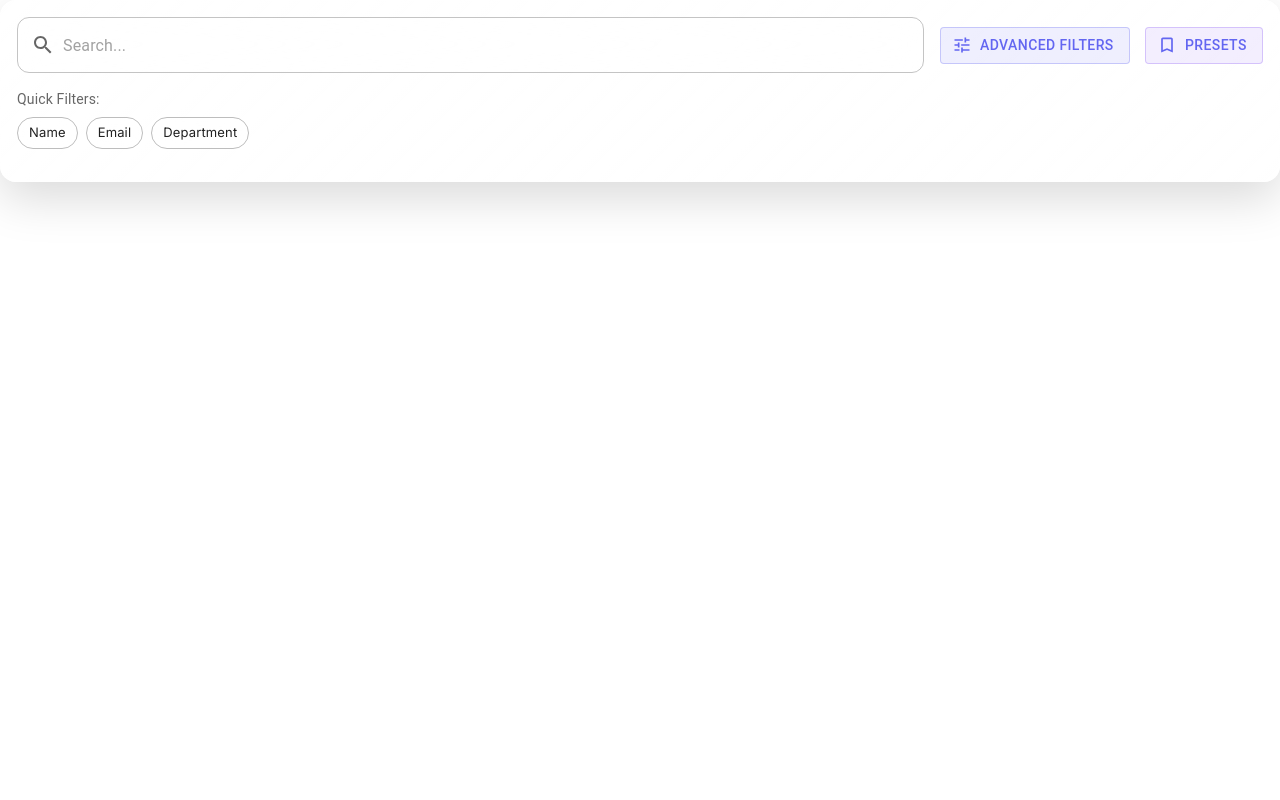
Scenario: SmartFilter › opens advanced filter builder
This screenshot has width=1280, height=800.
Click the button "Advanced Filters": (1034, 45) [940,27,1129,63]
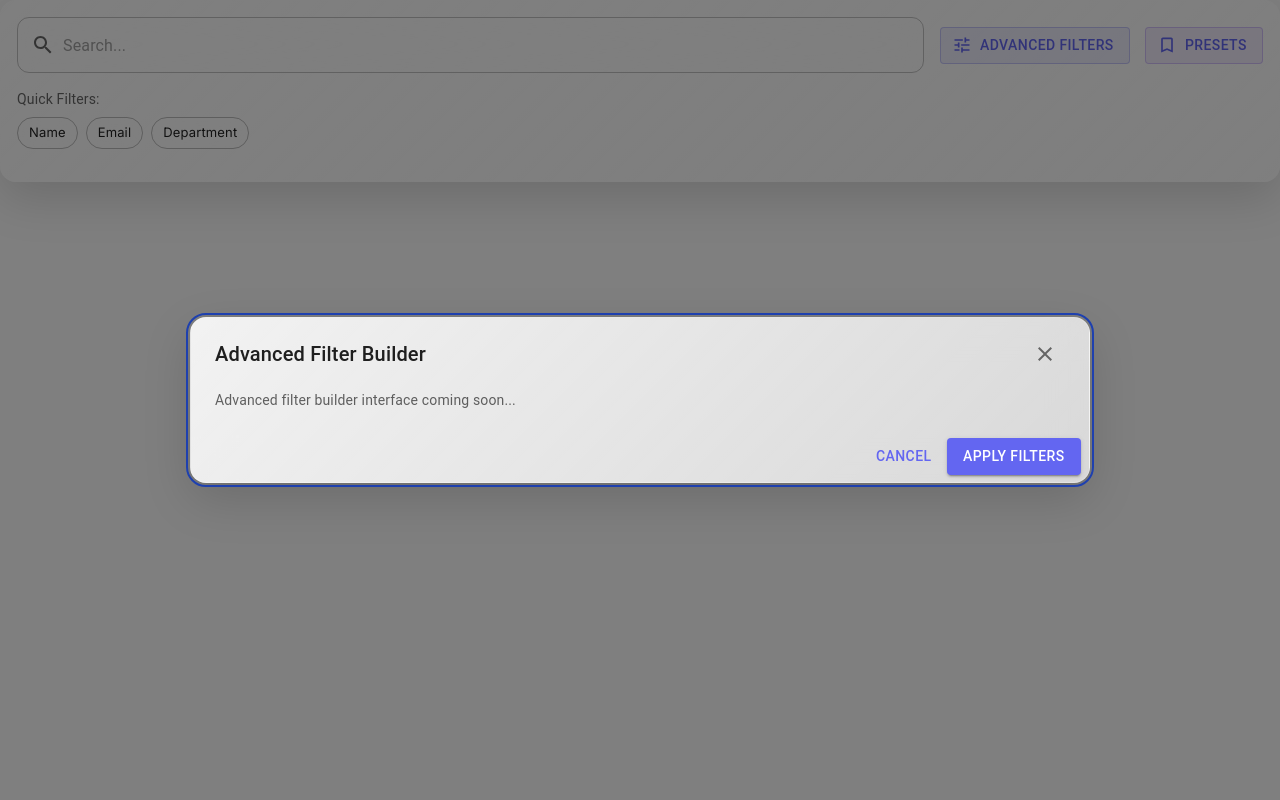
Expected: the heading "Advanced Filter Builder" is shown, [215,338,426,370]
